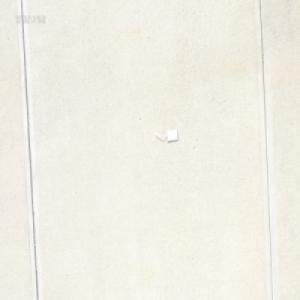LuggageTag: (153, 127, 178, 144)
